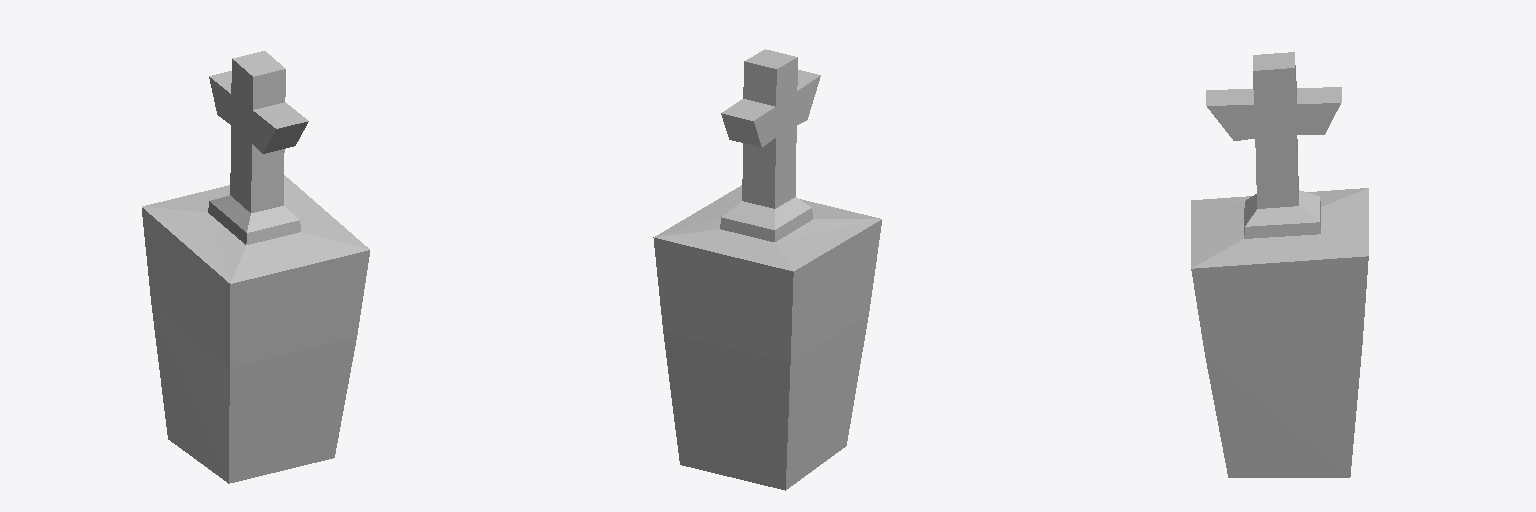
Rendered from crossstone.obj.
The picture shows the model from 3 angles: view 1: azimuth 30°, elevation 25°; view 2: azimuth 150°, elevation 25°; view 3: azimuth 270°, elevation 25°; orthographic projection.
Visible parts, largest first — view 1: Object_140; view 2: Object_140; view 3: Object_140.
Boxes of the visible parts, x1,y1,x2,y2 form: Object_140: [142, 51, 369, 483]; Object_140: [653, 49, 881, 490]; Object_140: [1191, 52, 1368, 477].
Size of the model in its own units: 5.37 by 14.36 by 5.9.